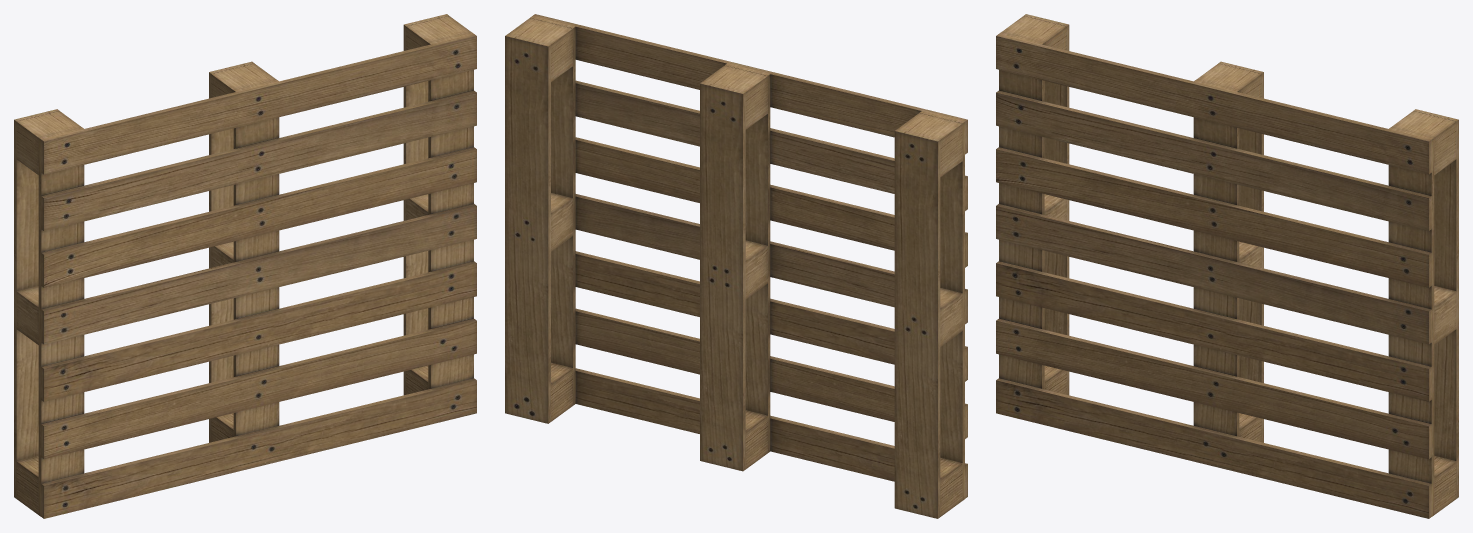
Rendered from pallet_plywood.gltf.
3 views of the same model, side by side, from view 1: azimuth 30°, elevation 25°; view 2: azimuth 150°, elevation 25°; view 3: azimuth 330°, elevation 25° (orthographic).
Visible parts, largest first — view 1: pallet_plywood; view 2: pallet_plywood; view 3: pallet_plywood.
Part boxes in pixels (x1,y1,x2,y2): pallet_plywood: (14,14,476,518); pallet_plywood: (505,14,967,518); pallet_plywood: (996,14,1458,518).
Bounding box in the file's own units: 1.2 × 1 × 0.144.
1 material, 1 textured.
